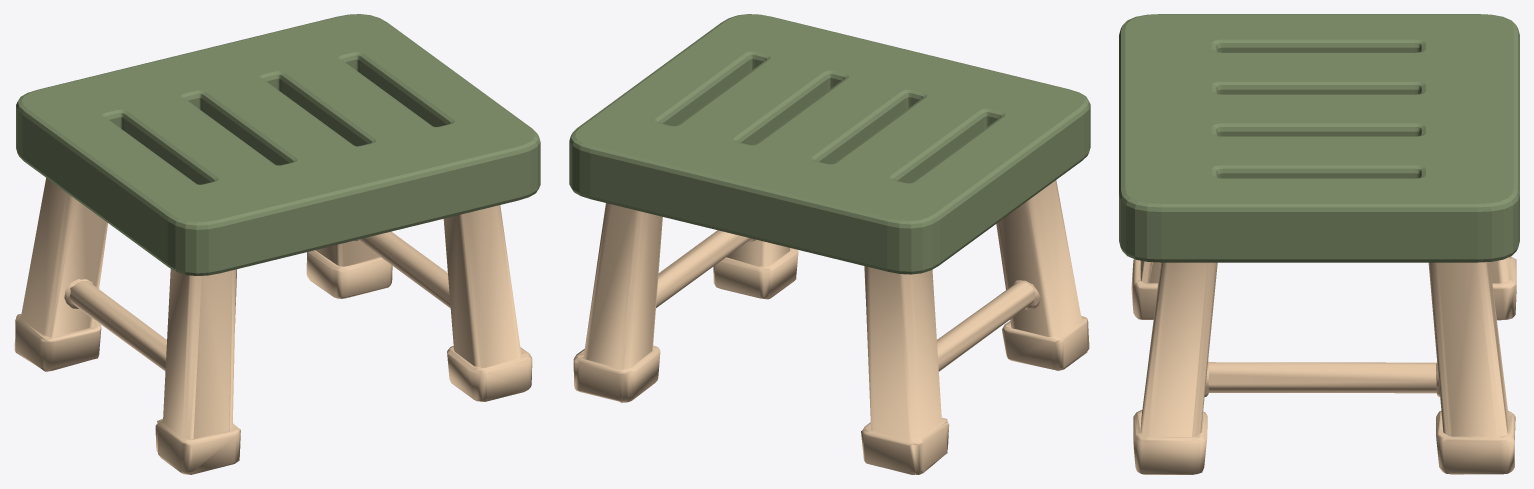
Rendered from bath_stool.glb.
3 renders of one model, left to right at view 1: azimuth 30°, elevation 25°; view 2: azimuth 150°, elevation 25°; view 3: azimuth 270°, elevation 25°, orthographic. The views are drawn at different scales.
Bounding box in the file's own units: 1.1 × 0.73 × 0.9557.
